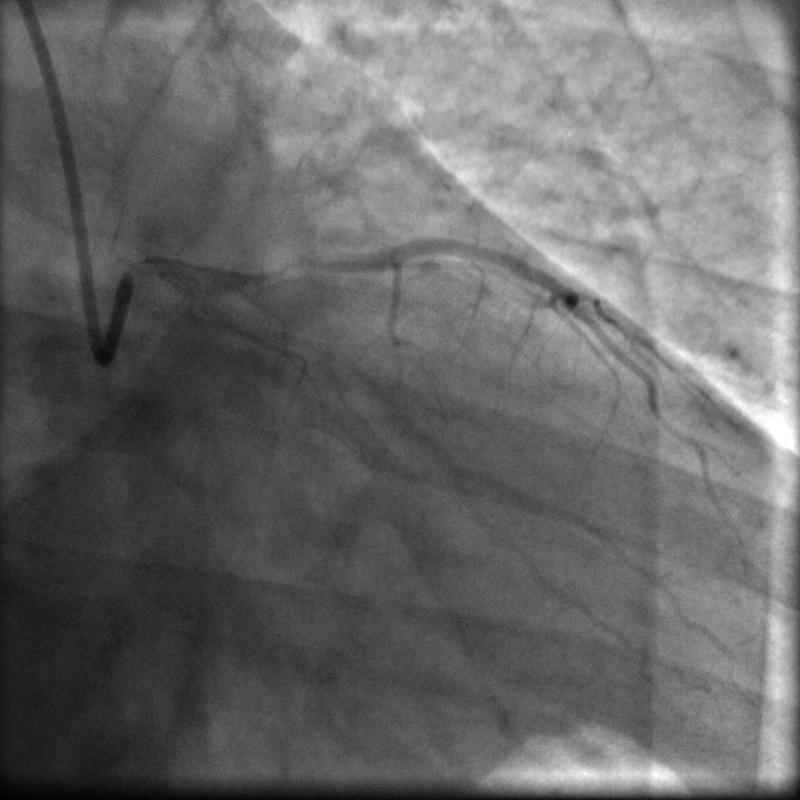Stenosis: (255, 255, 365, 283)
